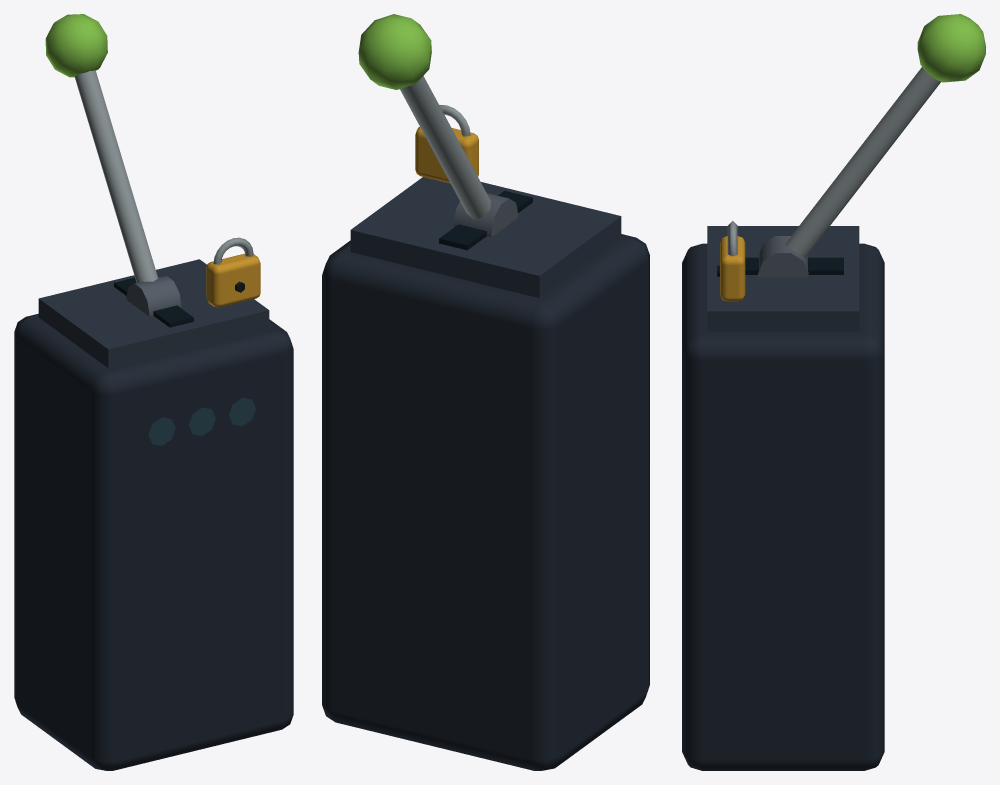
The model's file is alavanca_portal.glb.
3 renders of one model, left to right at view 1: azimuth 30°, elevation 25°; view 2: azimuth 150°, elevation 25°; view 3: azimuth 270°, elevation 25°, orthographic. The views are drawn at different scales.
Visible parts, largest first — view 1: alavanca_malha, braco_malha, cadeado_malha, luz_0_apagada_malha, luz_2_apagada_malha, luz_1_apagada_malha; view 2: alavanca_malha, braco_malha, cadeado_malha; view 3: alavanca_malha, braco_malha, cadeado_malha.
Part boxes in pixels (bbox=[...]): alavanca_malha: bbox=[14, 259, 293, 770]; braco_malha: bbox=[45, 14, 181, 316]; cadeado_malha: bbox=[206, 237, 260, 307]; luz_0_apagada_malha: bbox=[148, 417, 175, 445]; luz_2_apagada_malha: bbox=[229, 397, 255, 426]; luz_1_apagada_malha: bbox=[188, 407, 215, 435]; alavanca_malha: bbox=[322, 177, 649, 770]; braco_malha: bbox=[358, 14, 518, 237]; cadeado_malha: bbox=[415, 105, 478, 183]; alavanca_malha: bbox=[682, 226, 884, 770]; braco_malha: bbox=[758, 14, 985, 277]; cadeado_malha: bbox=[717, 221, 745, 301].
Bounding box in the file's own units: 0.5 × 1.54 × 0.608.
